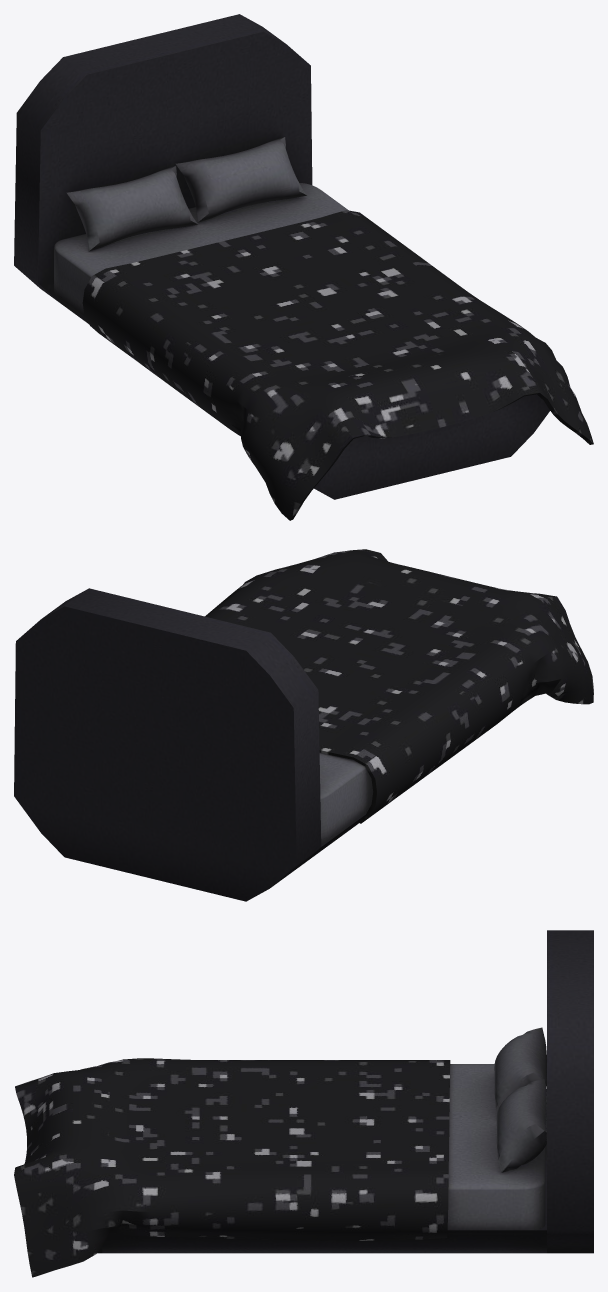
The model's file is bed-v1.glb.
The picture shows the model from 3 angles, top to bottom: view 1: azimuth 30°, elevation 25°; view 2: azimuth 150°, elevation 25°; view 3: azimuth 270°, elevation 25°; orthographic projection. The views are drawn at different scales.
Parts seen in each view (by area): view 1: bed_model; view 2: bed_model; view 3: bed_model.
Part boxes in pixels (<box>): bed_model: <box>14,14,593,520</box>; bed_model: <box>14,549,593,901</box>; bed_model: <box>14,930,593,1277</box>.
Bounding box in the file's own units: 2.29 × 1.7 × 3.74.
2 materials, 2 textured.
